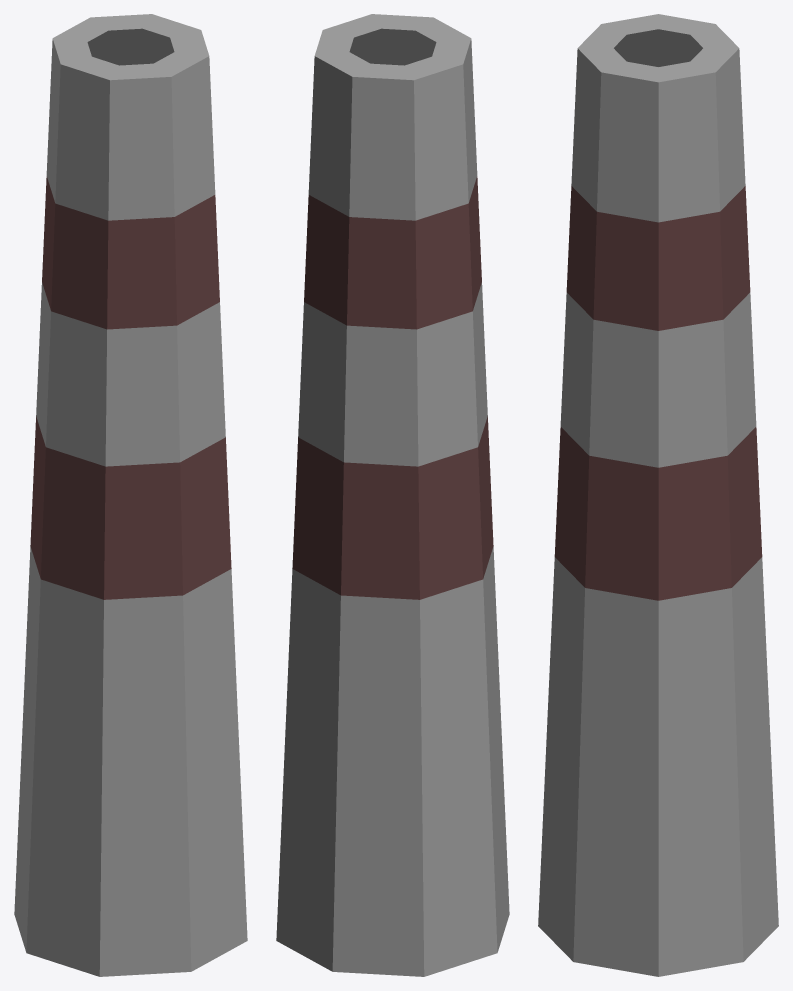
File: Detail14.fbx
3 views of the same model, side by side, from view 1: azimuth 30°, elevation 25°; view 2: azimuth 150°, elevation 25°; view 3: azimuth 270°, elevation 25° (orthographic).
Parts seen in each view (by area): view 1: Pipe01; view 2: Pipe01; view 3: Pipe01.
Part boxes in pixels (x1,y1,x2,y2): Pipe01: (14, 14, 247, 976); Pipe01: (276, 14, 509, 976); Pipe01: (538, 14, 778, 976).
Bounding box in the file's own units: 0.6012 × 2.42 × 0.6012.
